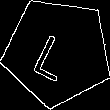L_NE: (33, 22, 82, 81)
